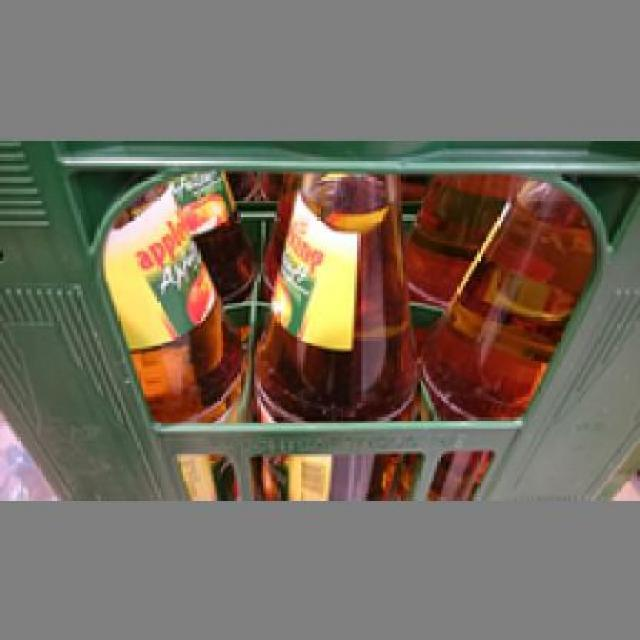Juice: (402, 177, 588, 492), (65, 168, 241, 494), (248, 168, 418, 492)
